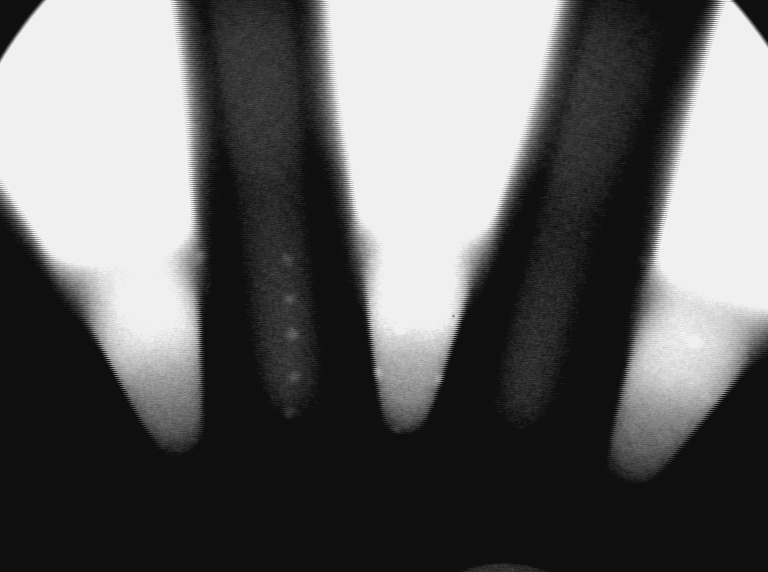defect: (391, 315, 414, 341)
